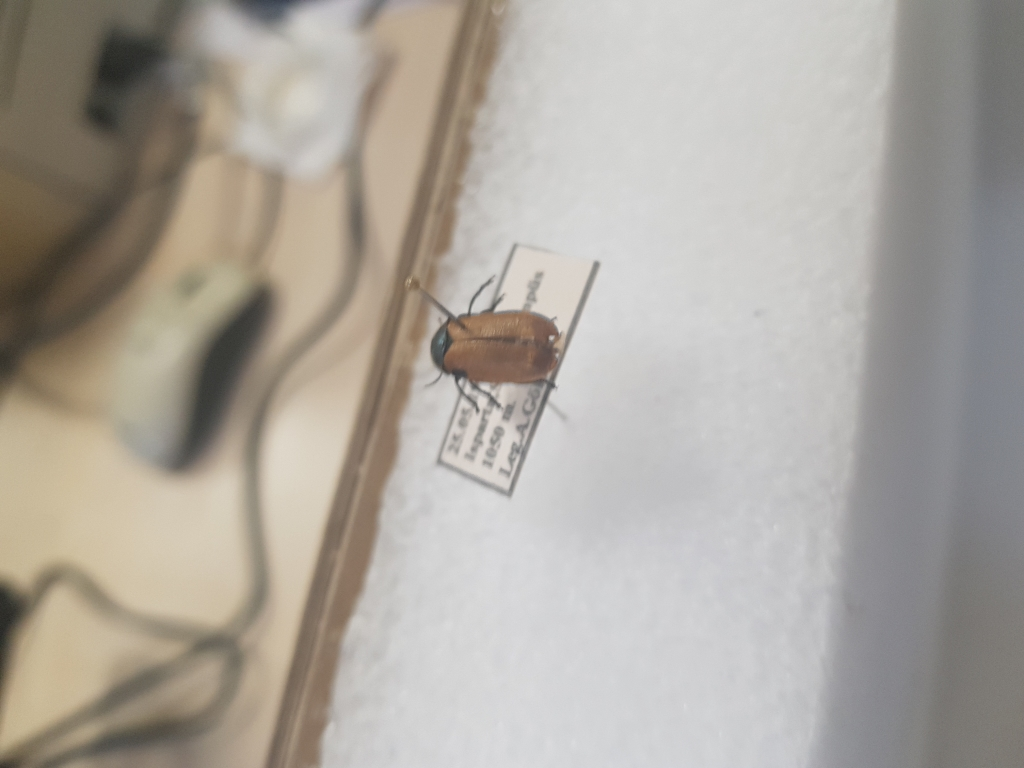Labidostomis_asiatica: (419, 274, 577, 428)
